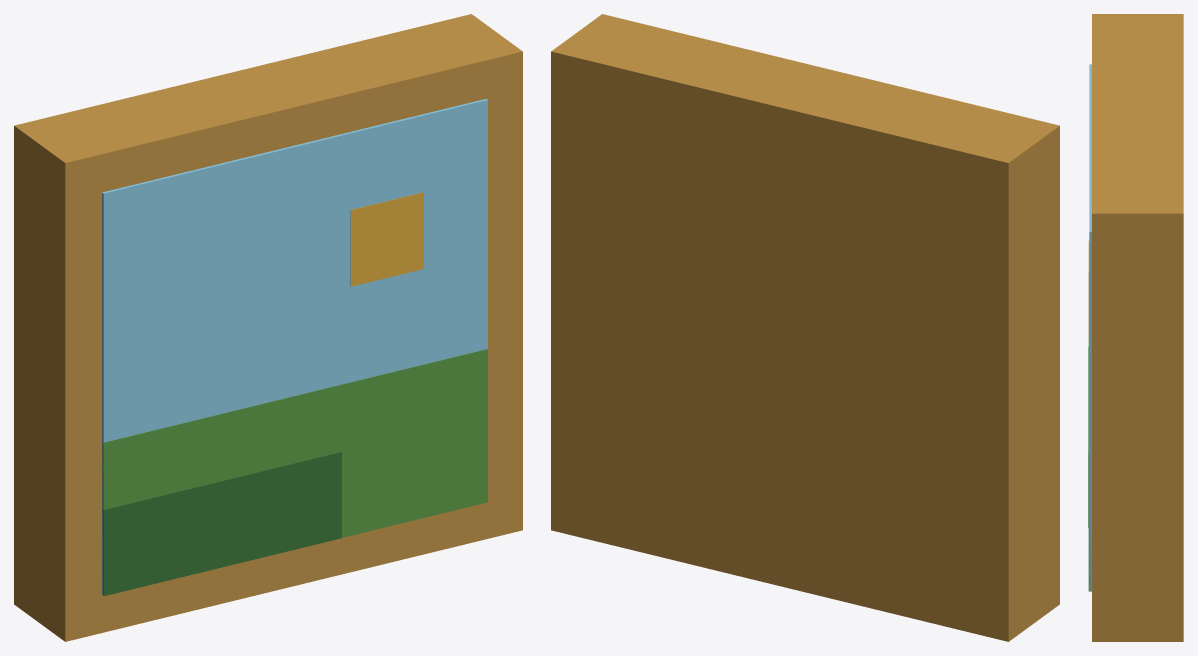
File: painting.glb
3 renders of one model, left to right at view 1: azimuth 30°, elevation 25°; view 2: azimuth 150°, elevation 25°; view 3: azimuth 270°, elevation 25°, orthographic. The views are drawn at different scales.
Visible parts, largest first — view 1: painting_Body; view 2: painting_Body; view 3: painting_Body.
Part boxes in pixels (x1,y1,x2,y2): painting_Body: [14, 14, 522, 641]; painting_Body: [551, 14, 1059, 641]; painting_Body: [1088, 14, 1183, 641].
Bounding box in the file's own units: 0.5 × 0.5 × 0.101.
